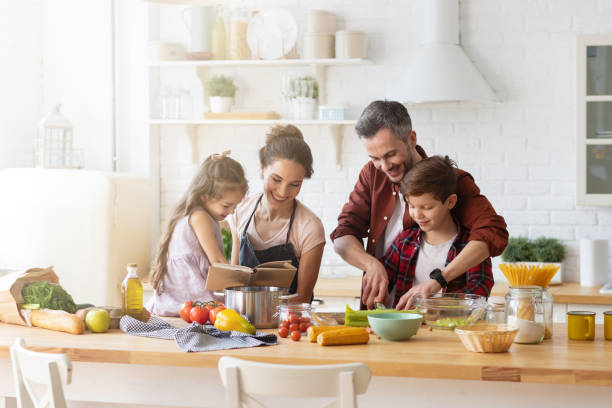without mask: (191, 171, 243, 229), (261, 150, 313, 208), (400, 179, 452, 237), (360, 121, 412, 179)
